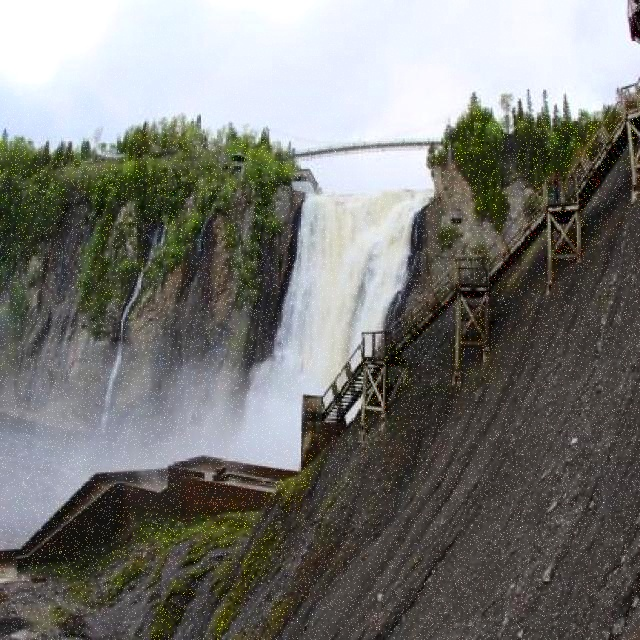stair: (386, 108, 639, 352), (26, 467, 109, 551), (321, 352, 385, 422)
